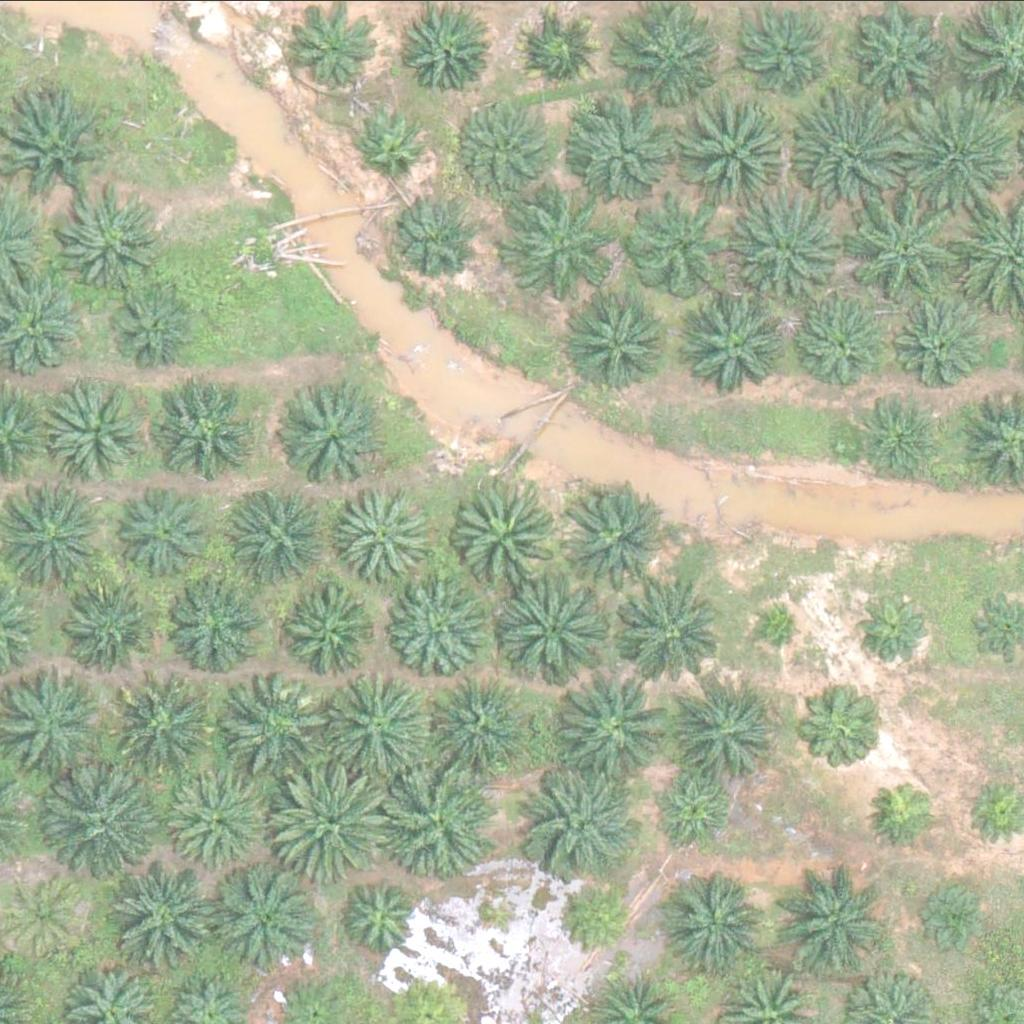Kelapa_Sawit: (902, 92, 1015, 205), (791, 92, 904, 205), (673, 93, 786, 206), (558, 92, 671, 205), (733, 195, 846, 308), (498, 576, 611, 689), (615, 579, 728, 692), (379, 761, 492, 874), (527, 764, 640, 877), (215, 671, 328, 784), (48, 764, 161, 877), (557, 673, 671, 785), (316, 669, 430, 781), (268, 767, 382, 879), (776, 860, 889, 972), (847, 189, 960, 301), (450, 481, 563, 593), (558, 484, 671, 596), (667, 668, 780, 780), (114, 858, 227, 970), (207, 863, 320, 975), (661, 870, 762, 970), (855, 6, 956, 106), (515, 204, 616, 304), (627, 198, 728, 298), (781, 292, 882, 392), (689, 292, 790, 392), (563, 286, 664, 386), (287, 389, 388, 489), (336, 482, 437, 582), (281, 584, 382, 684), (389, 577, 490, 677), (59, 195, 160, 295), (45, 386, 146, 486), (169, 768, 270, 868), (450, 97, 550, 197), (883, 289, 983, 389), (238, 484, 338, 584), (427, 670, 527, 770), (155, 380, 255, 480), (114, 484, 214, 584), (159, 572, 259, 672), (55, 575, 155, 675), (5, 669, 105, 769), (118, 677, 218, 777), (653, 765, 741, 853), (391, 194, 479, 282), (790, 680, 878, 768), (1, 870, 89, 958), (295, 4, 383, 91), (400, 8, 488, 95), (846, 583, 934, 670), (518, 8, 606, 95), (739, 11, 827, 98), (849, 396, 937, 483), (338, 876, 426, 963), (107, 282, 195, 369), (555, 881, 631, 956), (917, 878, 993, 953), (357, 104, 433, 179), (867, 773, 942, 848), (761, 601, 811, 651)
